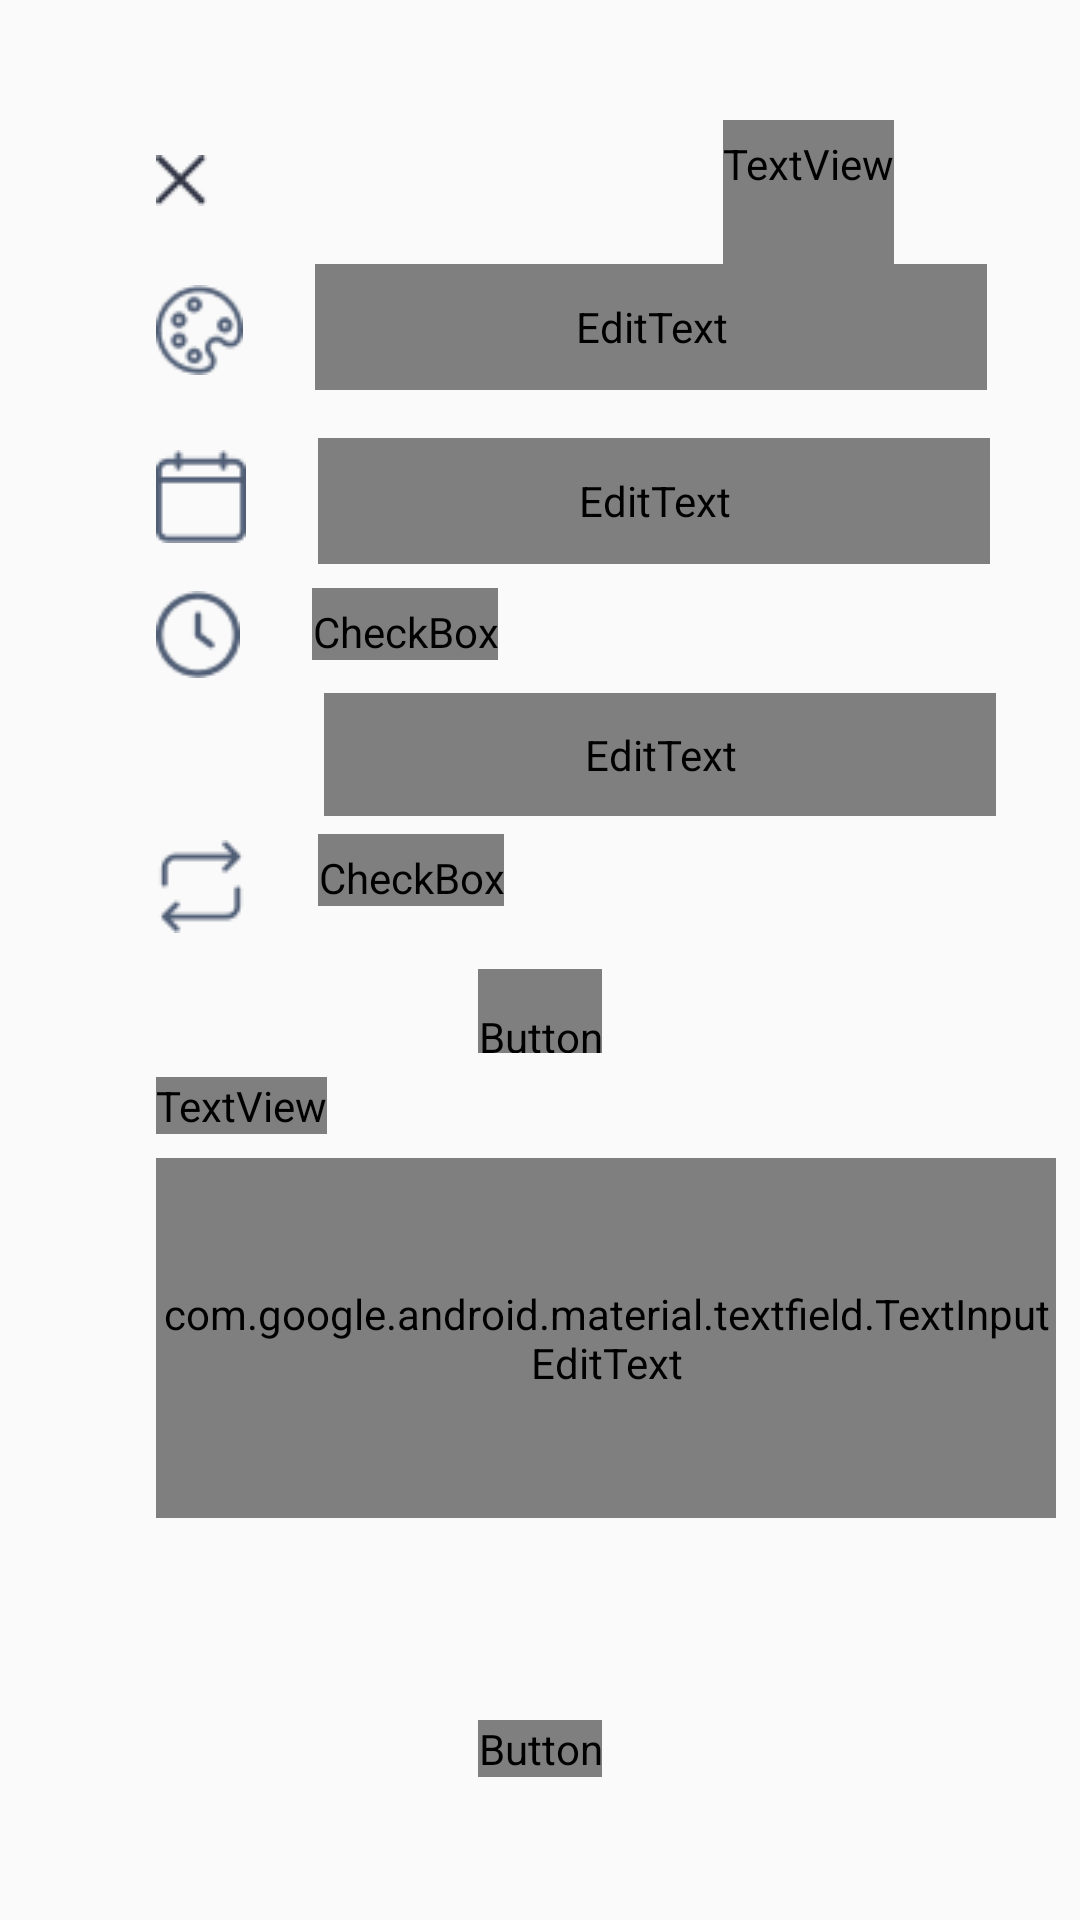

Icons on this 1080px x 1920px Android screen, each with its box as (x1, y1, x2, y2):
calendar: (156, 450, 246, 543)
clock: (156, 591, 240, 678)
Exit button: (156, 155, 207, 206)
palette: (156, 285, 243, 375)
repeat: (161, 840, 241, 933)
